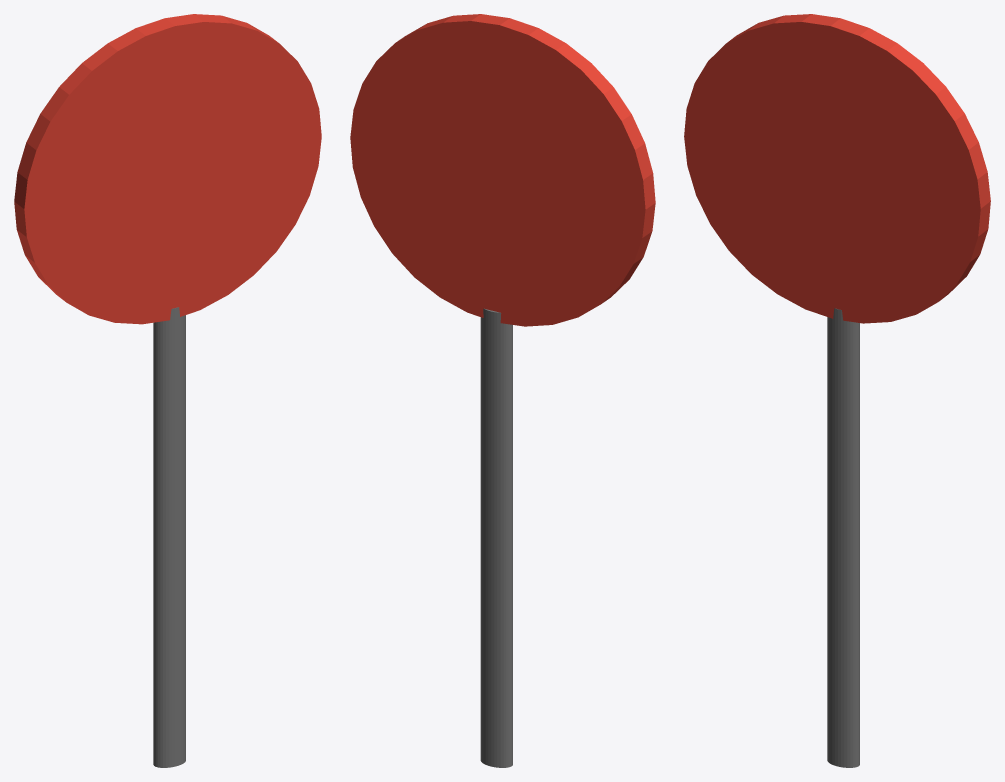
Rendered from znak.fbx.
The picture shows the model from 3 angles, left to right: view 1: azimuth 30°, elevation 25°; view 2: azimuth 150°, elevation 25°; view 3: azimuth 330°, elevation 25°; orthographic projection.
Visible parts, largest first — view 1: Cylinder.001, Cylinder; view 2: Cylinder.001, Cylinder; view 3: Cylinder.001, Cylinder.
Part boxes in pixels (box(x1,y1,x2,y2)): Cylinder.001: box(14, 14, 321, 324); Cylinder: box(153, 307, 185, 767); Cylinder.001: box(350, 14, 655, 326); Cylinder: box(480, 308, 512, 767); Cylinder.001: box(684, 14, 990, 323); Cylinder: box(827, 308, 859, 767).
Bounding box in the file's own units: 238 × 570 × 20.75.
